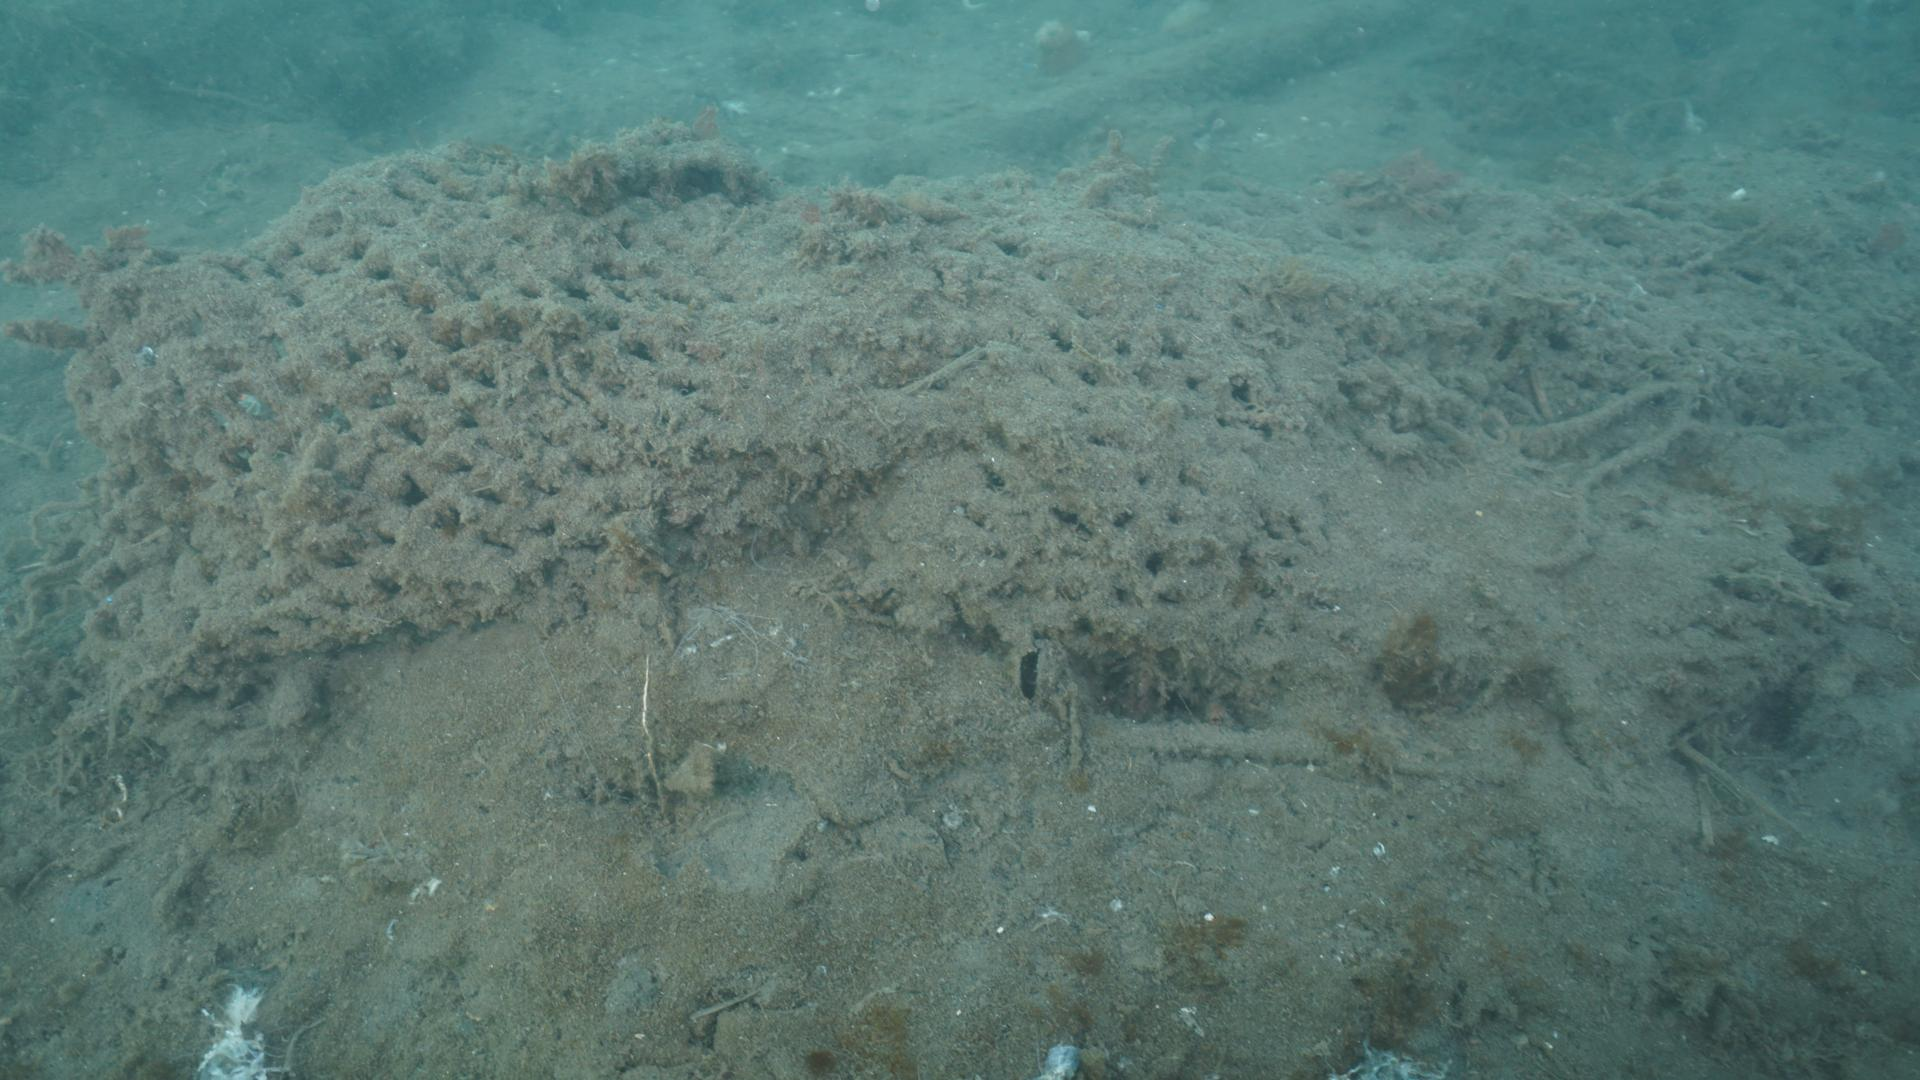fish net: (69, 144, 1276, 744)
